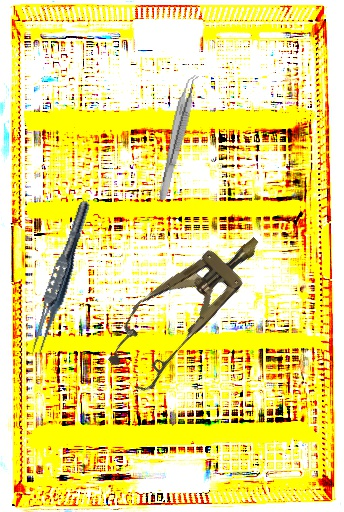Speculum: (93, 213, 283, 399)
Tissue Forceps: (25, 197, 95, 361), (156, 72, 201, 203)
